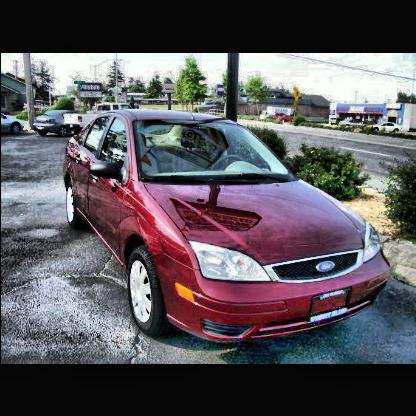Ford Focus Sedan 2007: (64, 111, 393, 349)
